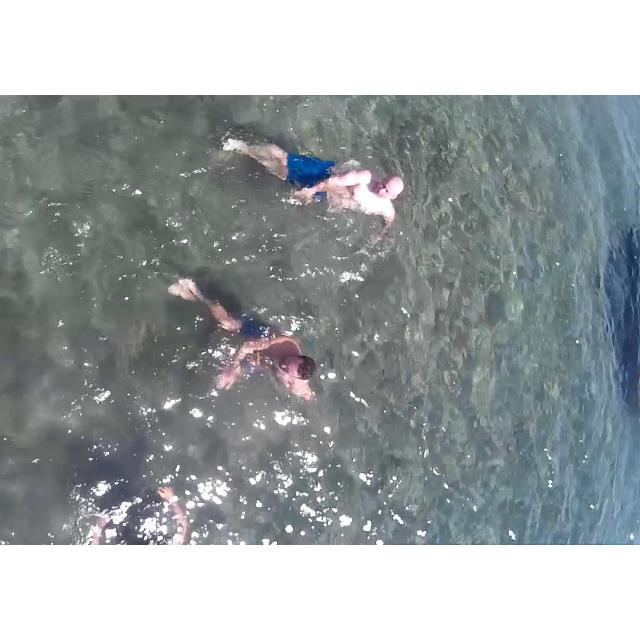human: (159, 251, 313, 414), (225, 107, 398, 245)
